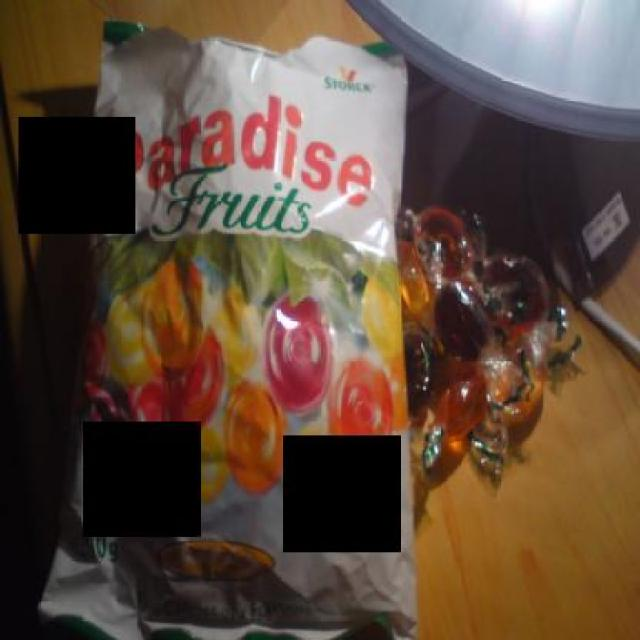plastic bag: (14, 12, 458, 638)
